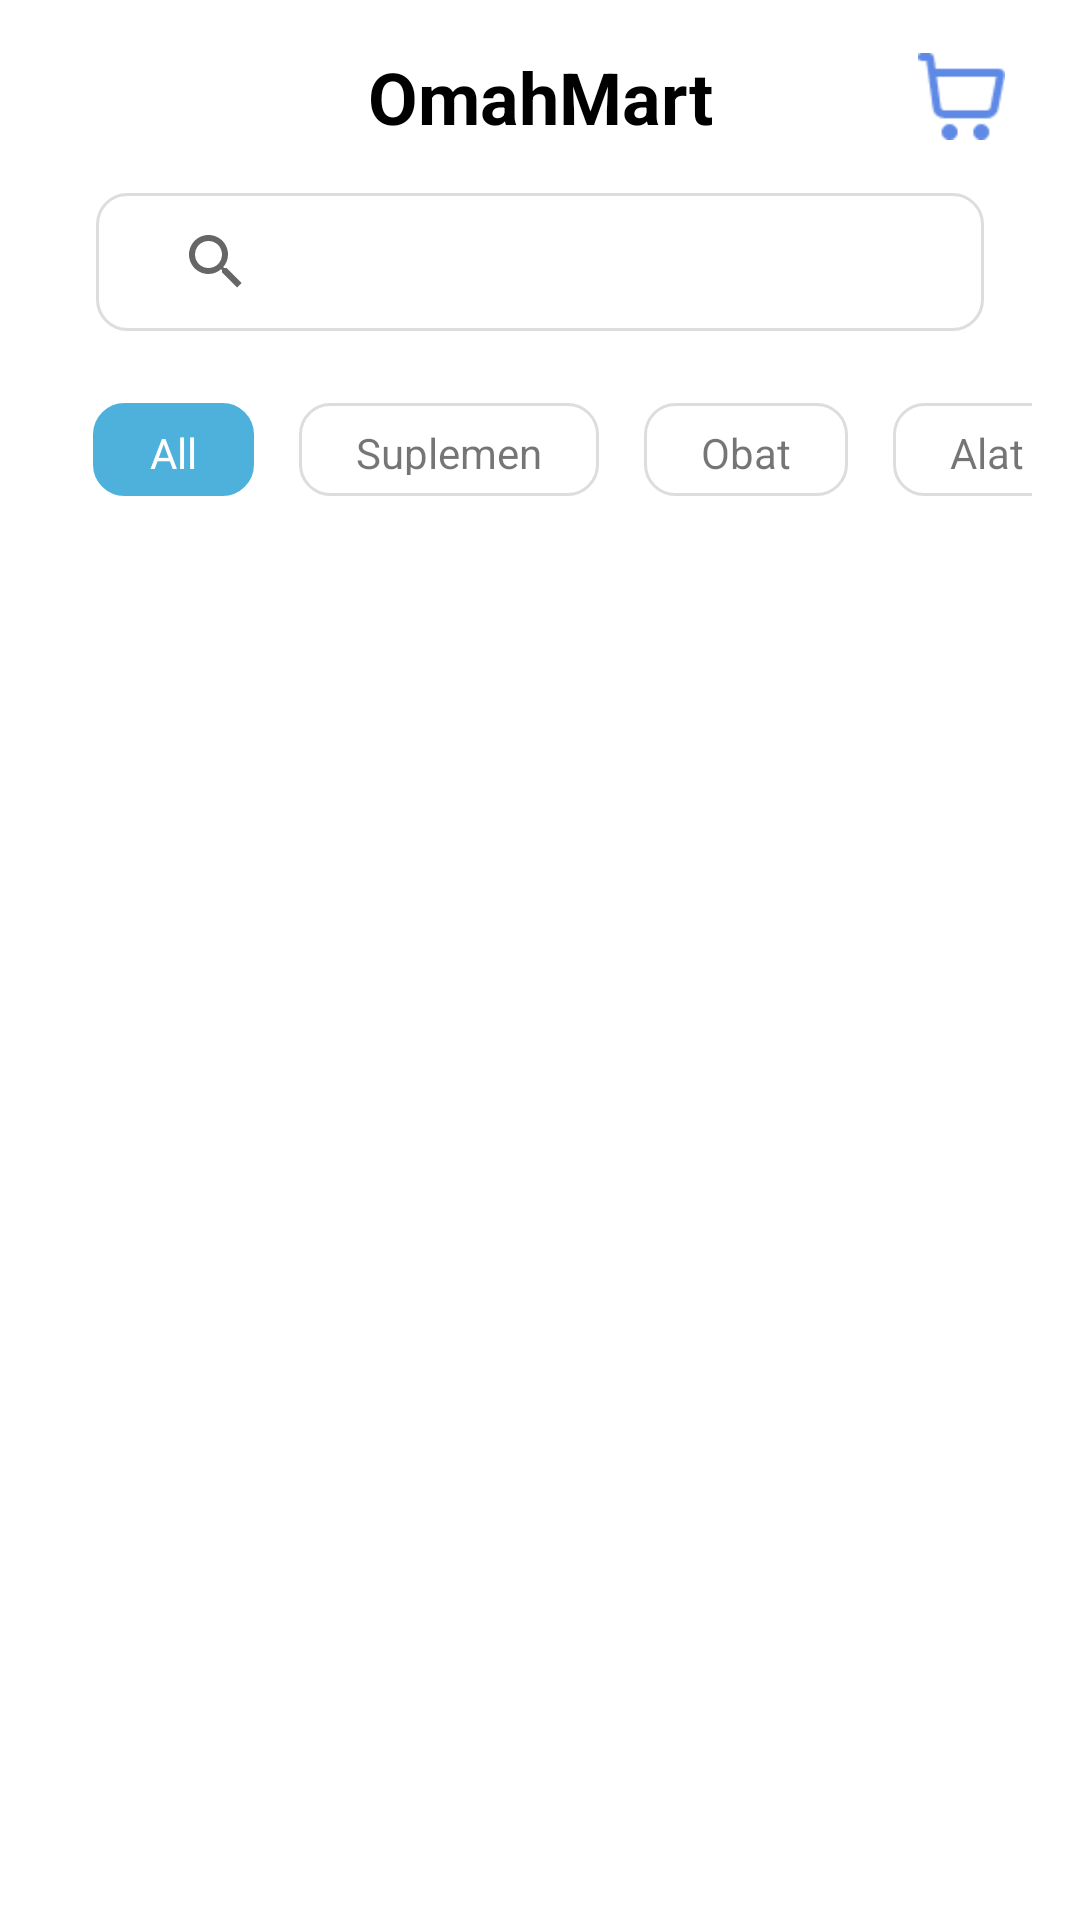

Icon bounding boxes for this 1080×1920 phone screenshot, format (x1, y1, x2, y2):
cart: (918, 53, 1005, 140)
